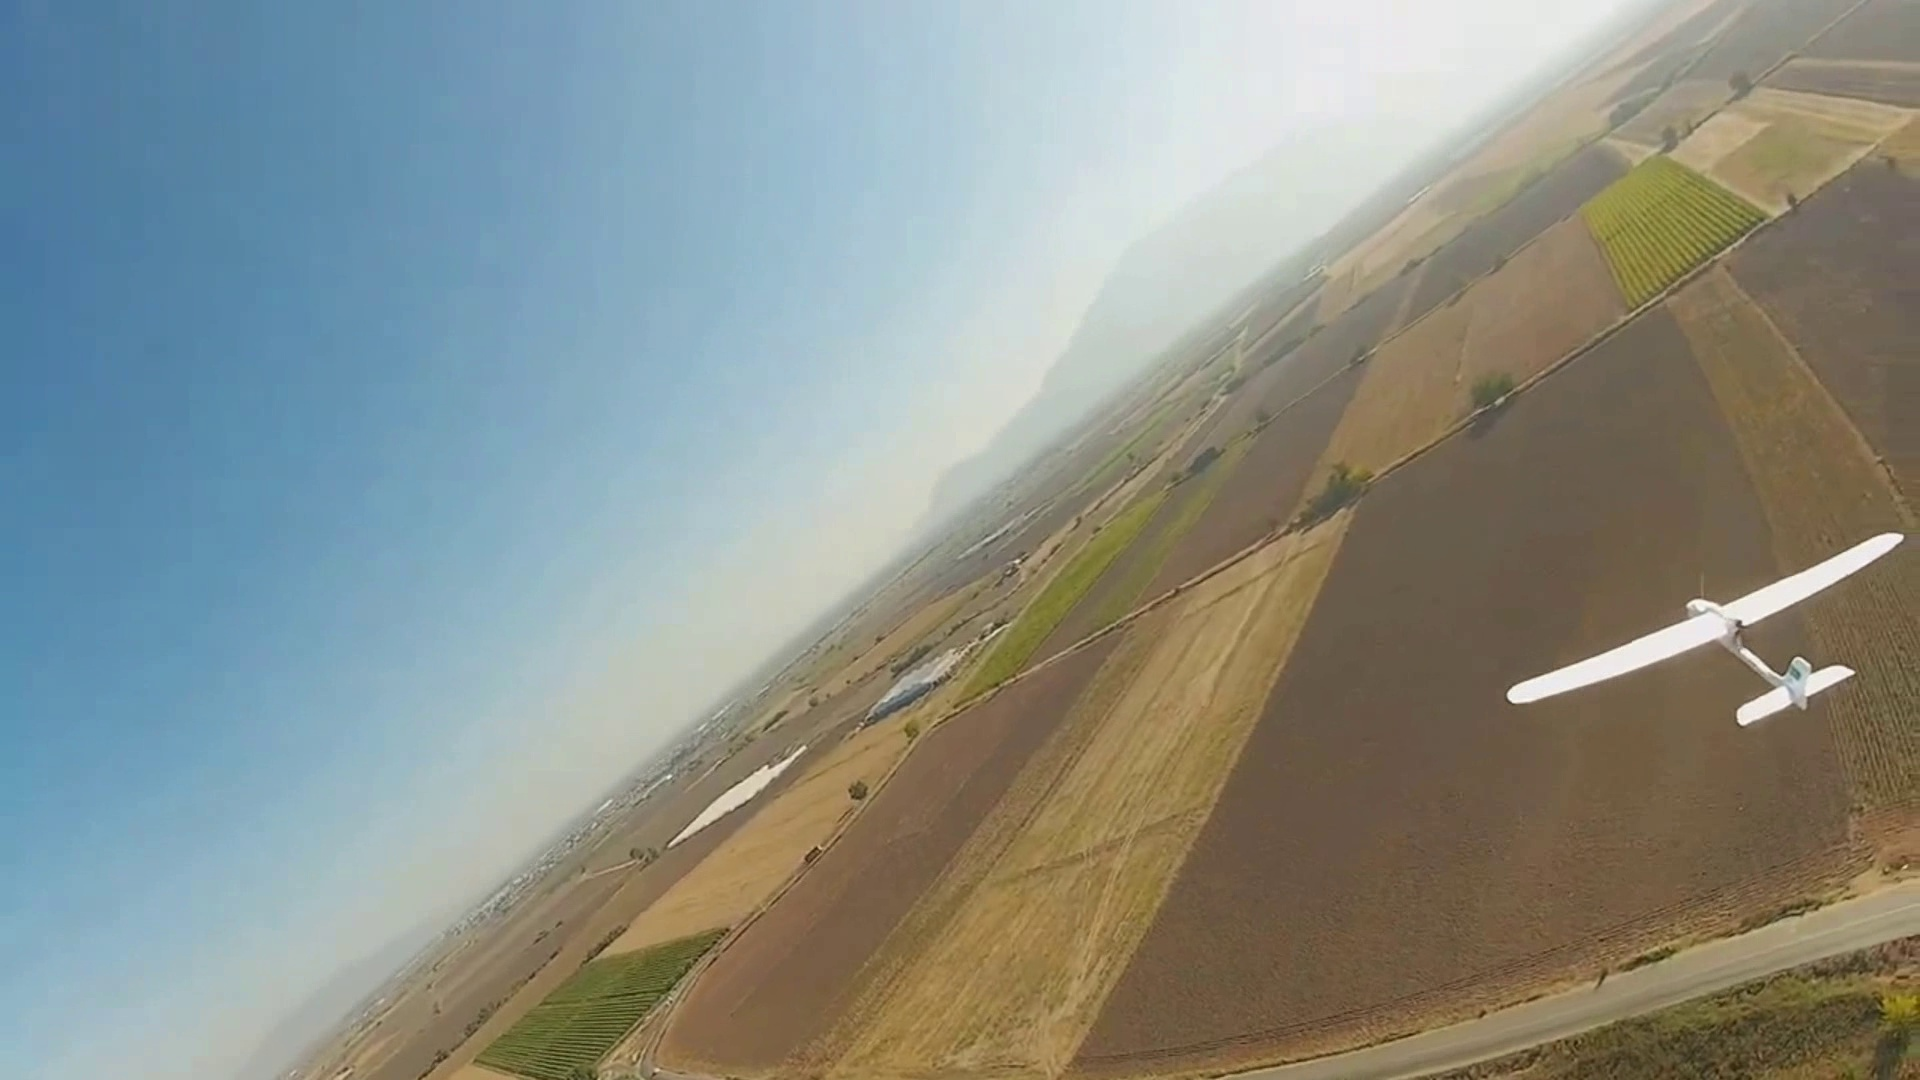airplane: (1509, 527, 1907, 731)
